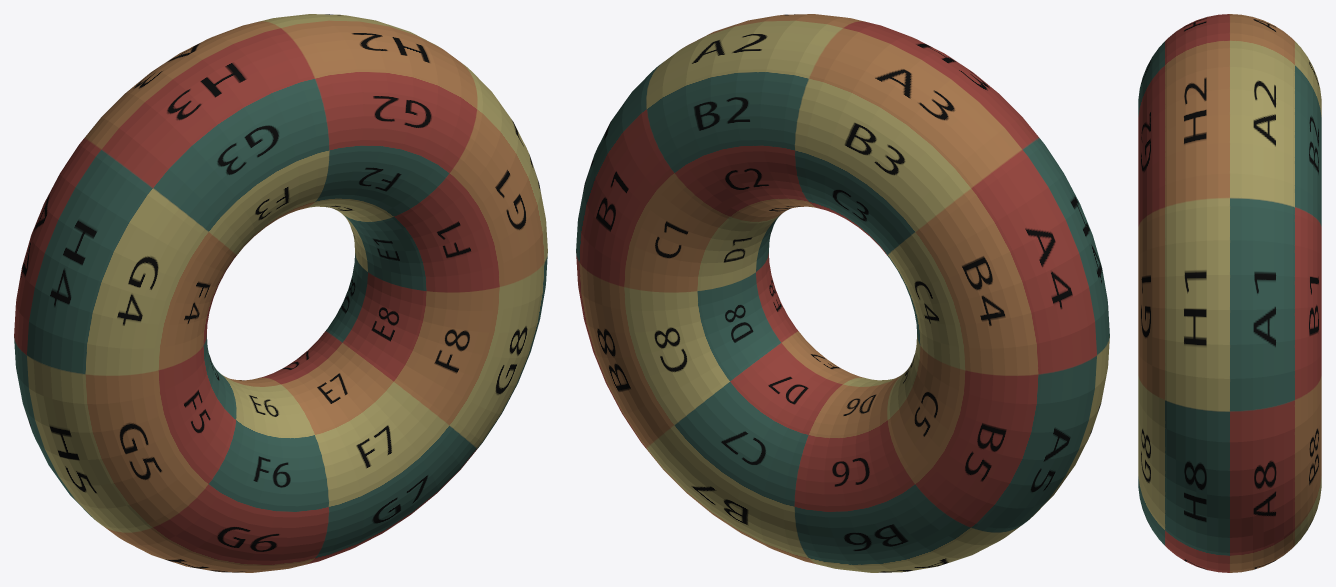
File: texture_torus_R14_r28.glb
3 renders of one model, left to right at view 1: azimuth 30°, elevation 25°; view 2: azimuth 150°, elevation 25°; view 3: azimuth 270°, elevation 25°, orthographic. The views are drawn at different scales.
Parts seen in each view (by area): view 1: world; view 2: world; view 3: world.
Boxes of the visible parts, x1,y1,x2,y2 form: world: [14, 14, 547, 572]; world: [576, 14, 1109, 572]; world: [1138, 14, 1321, 572].
Size of the model in its own units: 28.8 by 28.74 by 9.45.
1 material, 1 textured.
